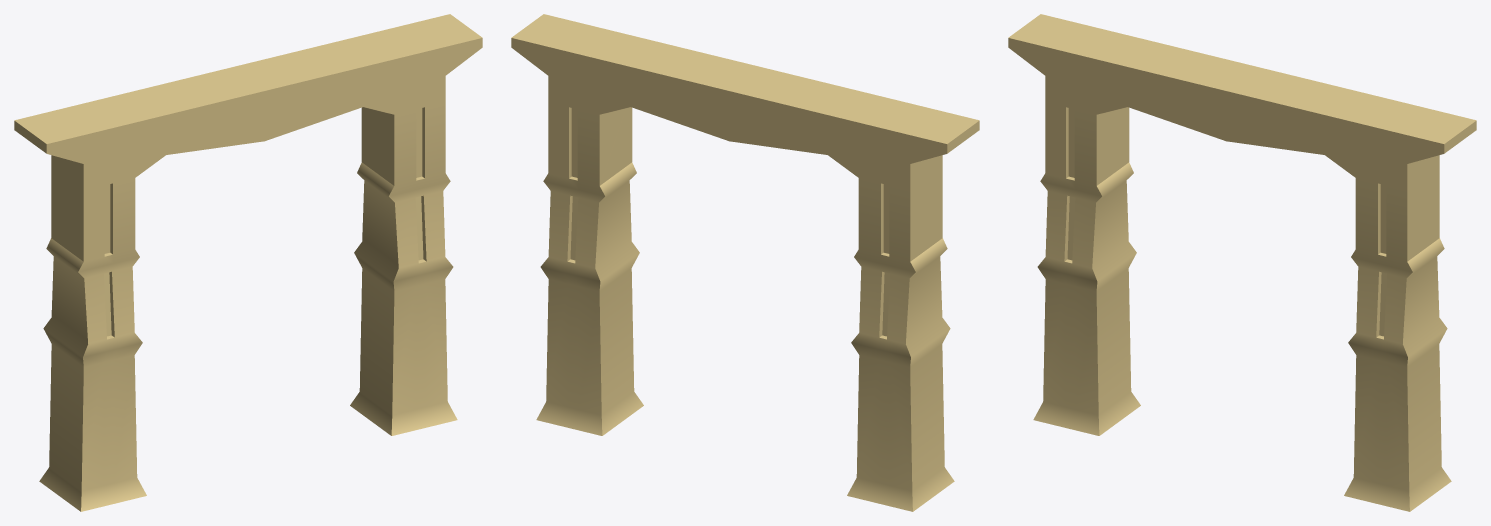
The model's file is Carved_Stones_Gate.fbx.
The picture shows the model from 3 angles, left to right: view 1: azimuth 30°, elevation 25°; view 2: azimuth 150°, elevation 25°; view 3: azimuth 330°, elevation 25°; orthographic projection.
Parts seen in each view (by area): view 1: MESH_Carved_Stones_Gate; view 2: MESH_Carved_Stones_Gate; view 3: MESH_Carved_Stones_Gate.
Part boxes in pixels (left/top/right/bottom): MESH_Carved_Stones_Gate: left=14, top=14, right=482, bottom=511; MESH_Carved_Stones_Gate: left=511, top=14, right=979, bottom=511; MESH_Carved_Stones_Gate: left=1008, top=14, right=1476, bottom=511.
Bounding box in the file's own units: 30.39 × 24.75 × 5.05.
